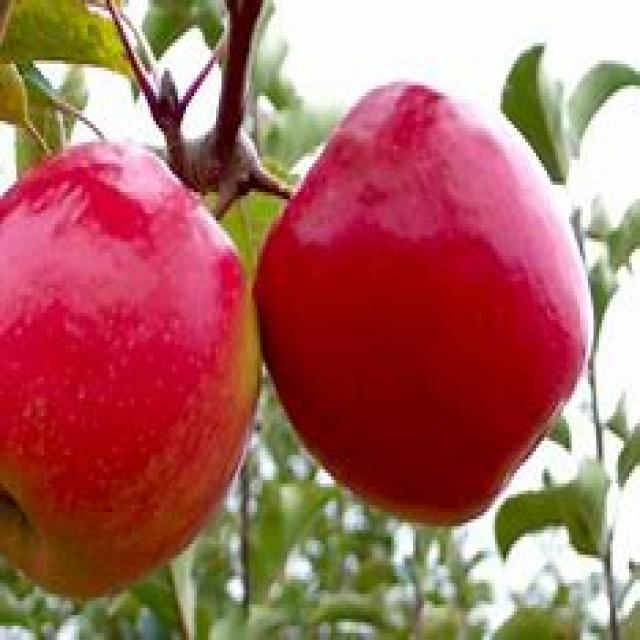apple: (258, 80, 592, 528), (0, 140, 259, 601)
